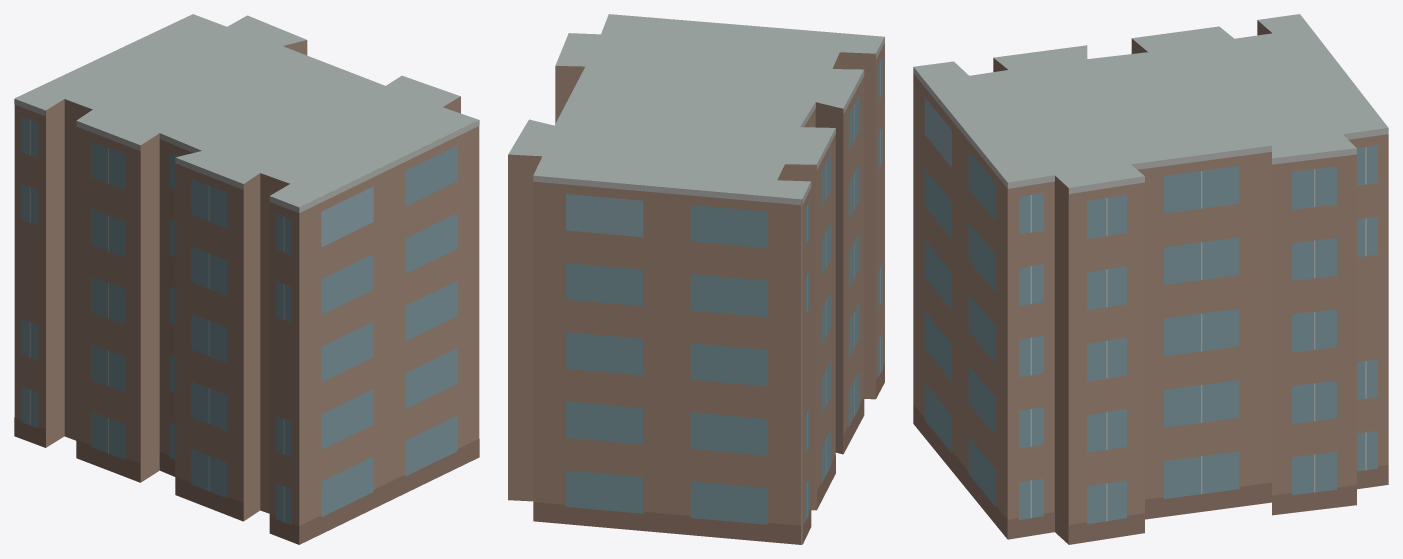
The model's file is survey-upis-32960387.glb.
The picture shows the model from 3 angles, left to right: view 1: azimuth 30°, elevation 25°; view 2: azimuth 150°, elevation 25°; view 3: azimuth 270°, elevation 25°; orthographic projection. The views are drawn at different scales.
Parts seen in each view (by area): view 1: survey-upis-32960387.tmp; view 2: survey-upis-32960387.tmp; view 3: survey-upis-32960387.tmp.
Boxes of the visible parts, x1,y1,x2,y2 form: survey-upis-32960387.tmp: [14, 14, 479, 544]; survey-upis-32960387.tmp: [508, 14, 884, 544]; survey-upis-32960387.tmp: [913, 14, 1388, 544].
Bounding box in the file's own units: 14.76 × 14.1 × 17.03.
